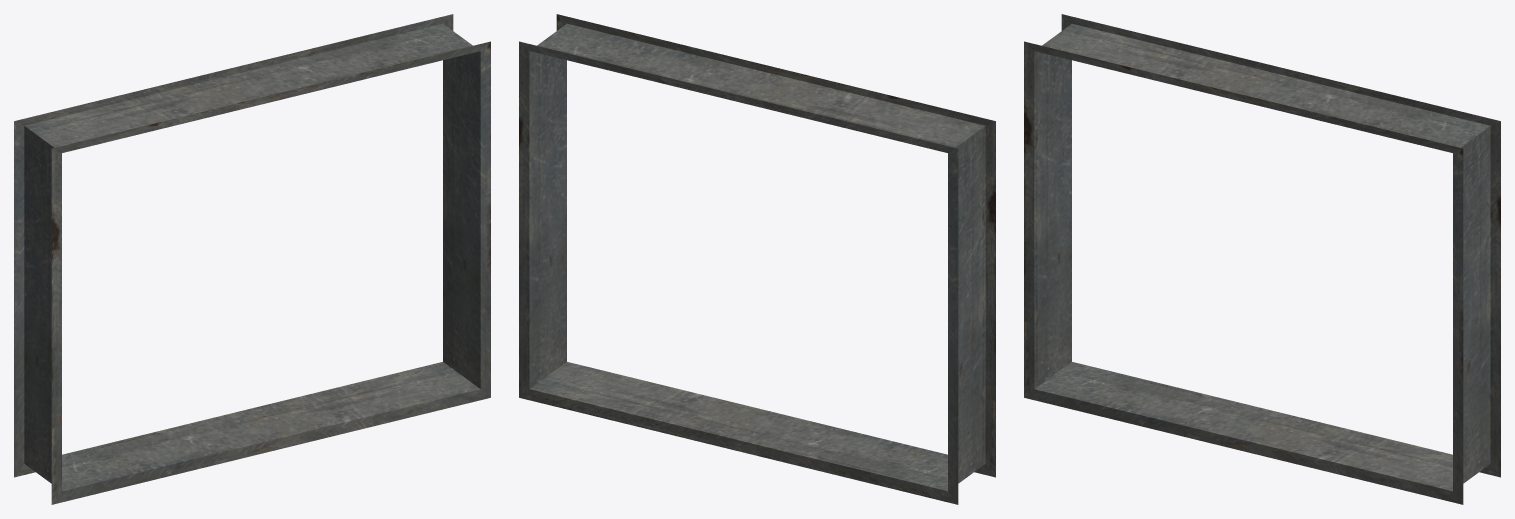
Rendered from WindowFrameOpenA.FBX.
3 renders of one model, left to right at view 1: azimuth 30°, elevation 25°; view 2: azimuth 150°, elevation 25°; view 3: azimuth 330°, elevation 25°, orthographic.
Visible parts, largest first — view 1: WindowFrameOpenA; view 2: WindowFrameOpenA; view 3: WindowFrameOpenA.
Boxes of the visible parts, box(x1,y1,x2,y2) form: WindowFrameOpenA: box(14, 14, 490, 504); WindowFrameOpenA: box(519, 14, 995, 504); WindowFrameOpenA: box(1024, 14, 1500, 504).
Bounding box in the file's own units: 206 × 160 × 30.45.
